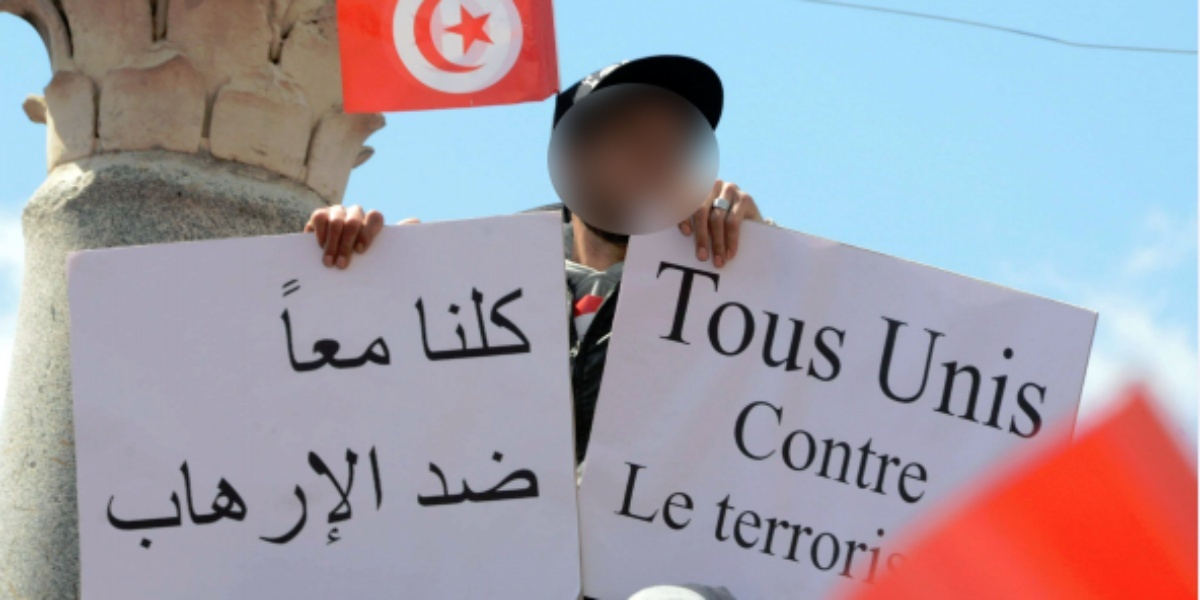text: (657, 252, 672, 390), (673, 252, 688, 390), (689, 252, 704, 390), (705, 252, 720, 390), (721, 252, 736, 390), (737, 252, 752, 390), (753, 252, 768, 390), (769, 252, 784, 390), (785, 252, 800, 390), (801, 252, 816, 390), (817, 252, 832, 390), (833, 252, 848, 390), (881, 311, 896, 446), (897, 311, 912, 446), (913, 311, 928, 446), (929, 311, 944, 446), (945, 311, 960, 446), (961, 311, 976, 446), (977, 311, 992, 446), (993, 311, 1008, 446), (1009, 311, 1024, 446), (1025, 311, 1040, 446), (1041, 311, 1056, 446), (913, 481, 929, 598), (753, 392, 768, 513), (769, 392, 784, 513), (785, 392, 800, 513), (801, 392, 816, 513), (817, 392, 832, 513), (833, 392, 848, 513), (849, 392, 864, 513), (865, 392, 880, 513), (881, 392, 896, 513), (897, 392, 912, 513), (913, 392, 928, 513), (721, 481, 736, 598), (737, 481, 752, 598), (753, 481, 768, 598), (769, 481, 784, 598), (785, 481, 800, 598), (801, 481, 816, 598), (817, 481, 832, 598), (833, 481, 848, 598), (849, 481, 864, 598), (865, 481, 880, 598), (881, 481, 896, 598), (897, 481, 912, 598), (738, 392, 752, 513), (113, 442, 128, 552), (129, 442, 144, 552), (145, 442, 160, 552), (161, 442, 176, 552), (177, 442, 192, 552), (193, 442, 208, 552), (209, 442, 224, 552), (225, 442, 240, 552), (241, 442, 256, 552), (257, 442, 272, 552), (273, 442, 288, 552), (289, 442, 304, 552), (305, 442, 320, 552), (321, 442, 336, 552), (337, 442, 352, 552), (353, 442, 368, 552), (369, 442, 384, 552), (289, 278, 304, 376), (305, 278, 320, 376), (321, 278, 336, 376), (337, 278, 352, 376), (353, 278, 368, 376), (369, 278, 384, 376), (274, 278, 288, 376), (849, 252, 858, 390), (417, 284, 432, 365), (433, 284, 448, 365), (449, 284, 464, 365), (465, 284, 480, 365), (481, 284, 496, 365), (497, 284, 512, 365), (513, 284, 528, 365), (625, 455, 640, 536), (641, 455, 656, 536), (657, 455, 672, 536), (673, 455, 688, 536), (1057, 311, 1065, 446), (417, 446, 432, 511), (433, 446, 448, 511), (449, 446, 464, 511), (465, 446, 480, 511), (481, 446, 496, 511), (497, 446, 512, 511), (513, 446, 528, 511), (529, 446, 544, 511), (689, 455, 700, 536), (385, 278, 394, 376), (104, 442, 112, 552), (929, 392, 935, 513), (529, 284, 536, 365), (410, 284, 416, 365), (621, 455, 624, 536), (718, 481, 720, 598), (655, 252, 656, 390), (385, 442, 386, 552), (545, 446, 546, 511)
